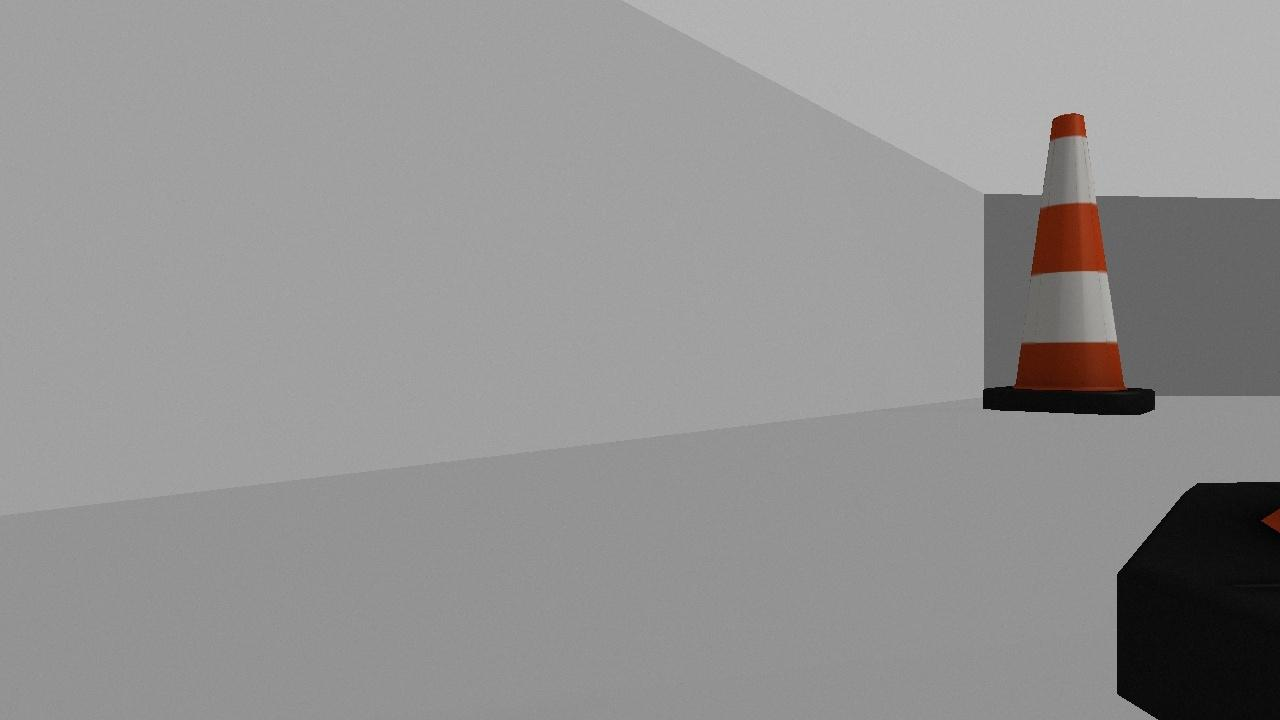cone_barrel: (980, 111, 1153, 415)
